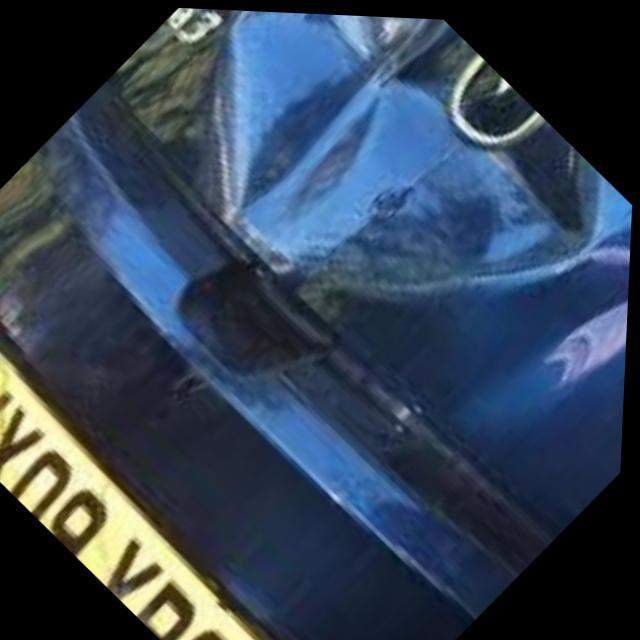dent: (204, 8, 634, 428)
